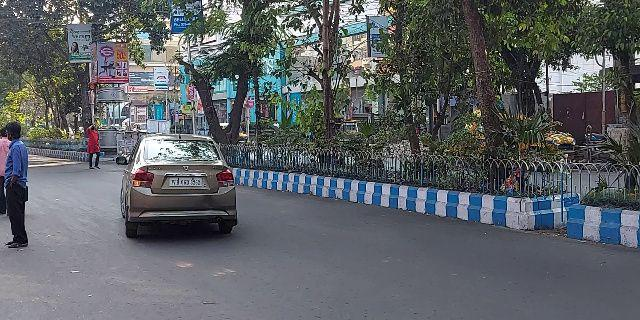Car: (117, 130, 240, 245)
